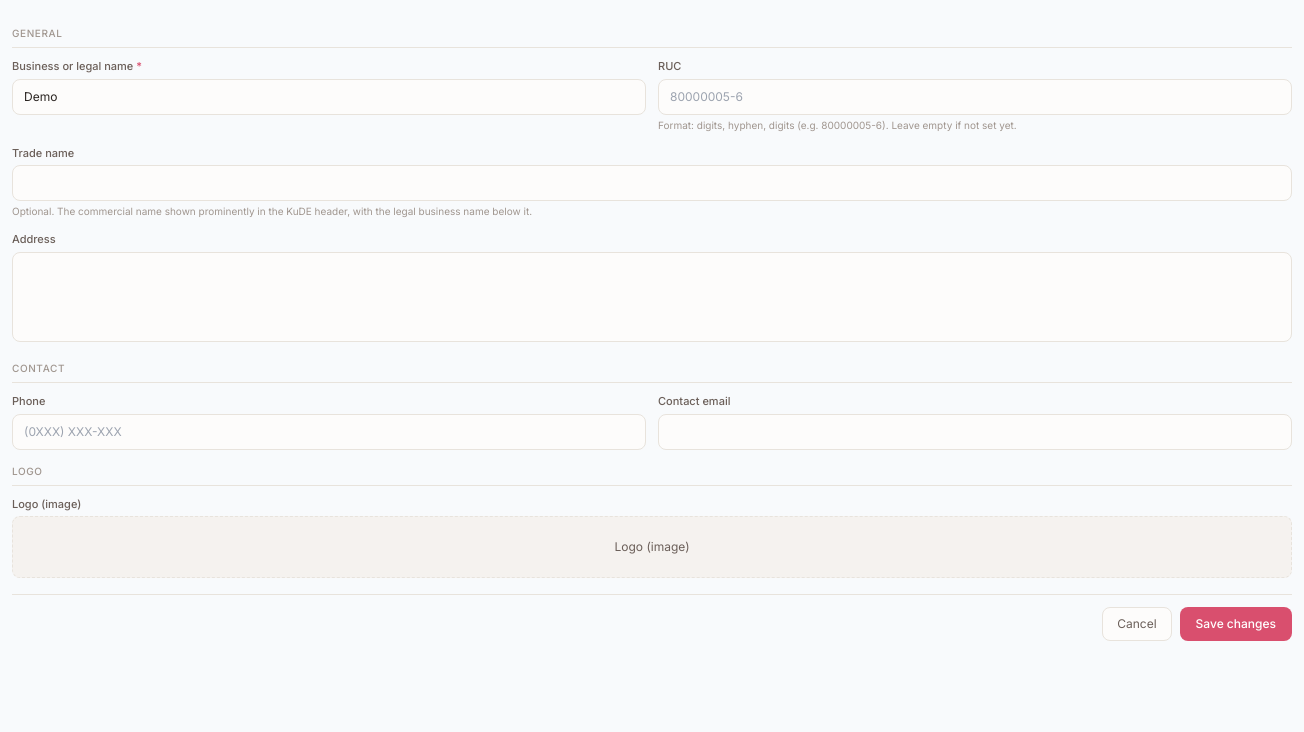
Scenario: BusinessSettingsPage › shows a success alert at the top after saving
Expected: the field labelled "Business or legal name *" is shown, [12,78,646,114]
Click the button "Save changes": (1236, 624) [1180,606,1292,640]
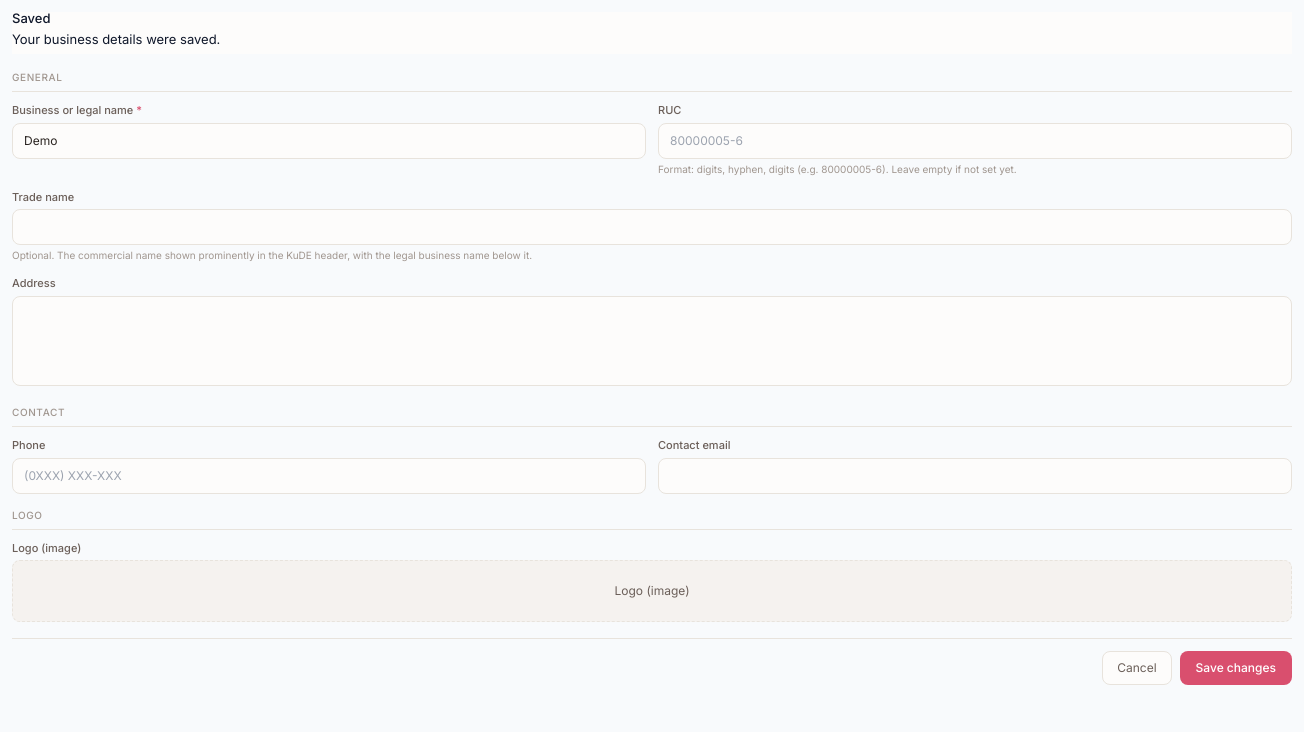
Expected: the text "Your business details were saved." is shown, [12,31,220,47]
